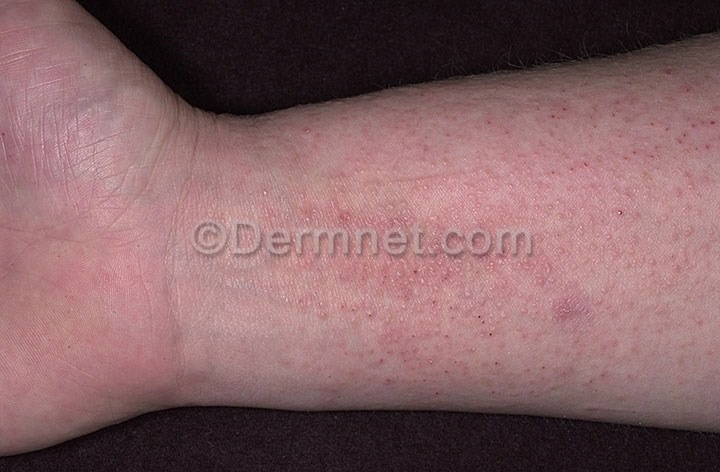Eczema: (201, 119, 720, 405), (9, 243, 136, 391), (445, 61, 720, 113)
